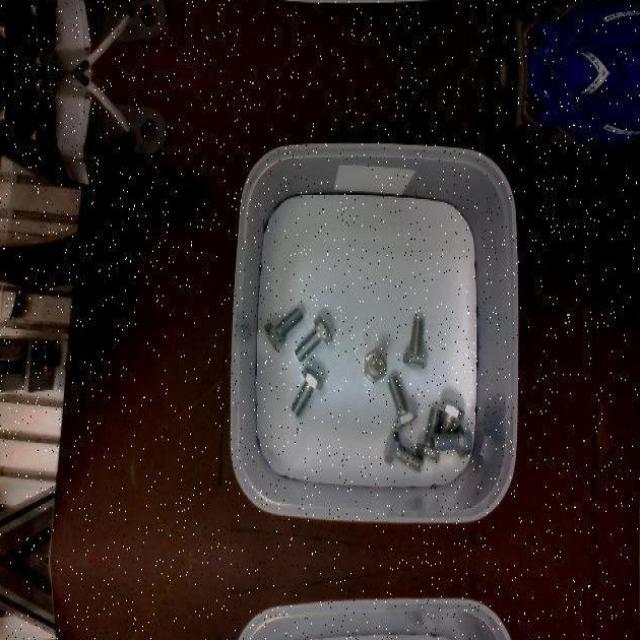screw: (264, 306, 304, 352), (294, 315, 332, 362), (383, 430, 424, 472), (291, 366, 324, 417), (387, 375, 418, 428), (430, 423, 472, 458), (402, 317, 427, 368), (364, 349, 386, 382)
